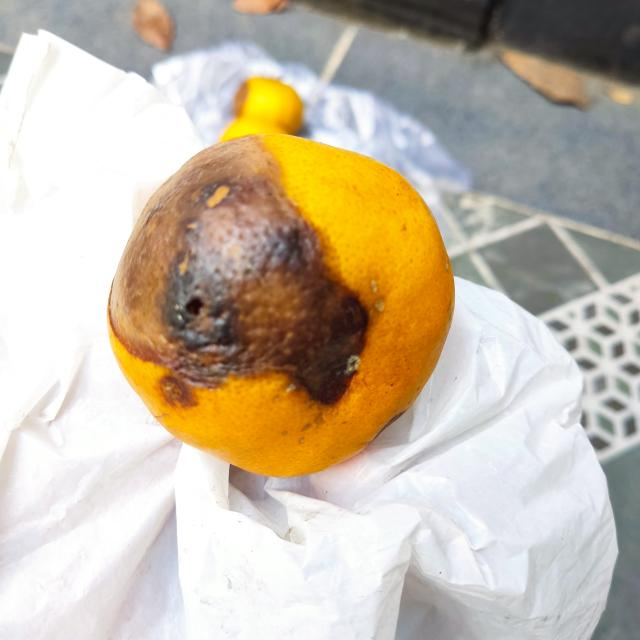orange: (108, 133, 457, 480)
